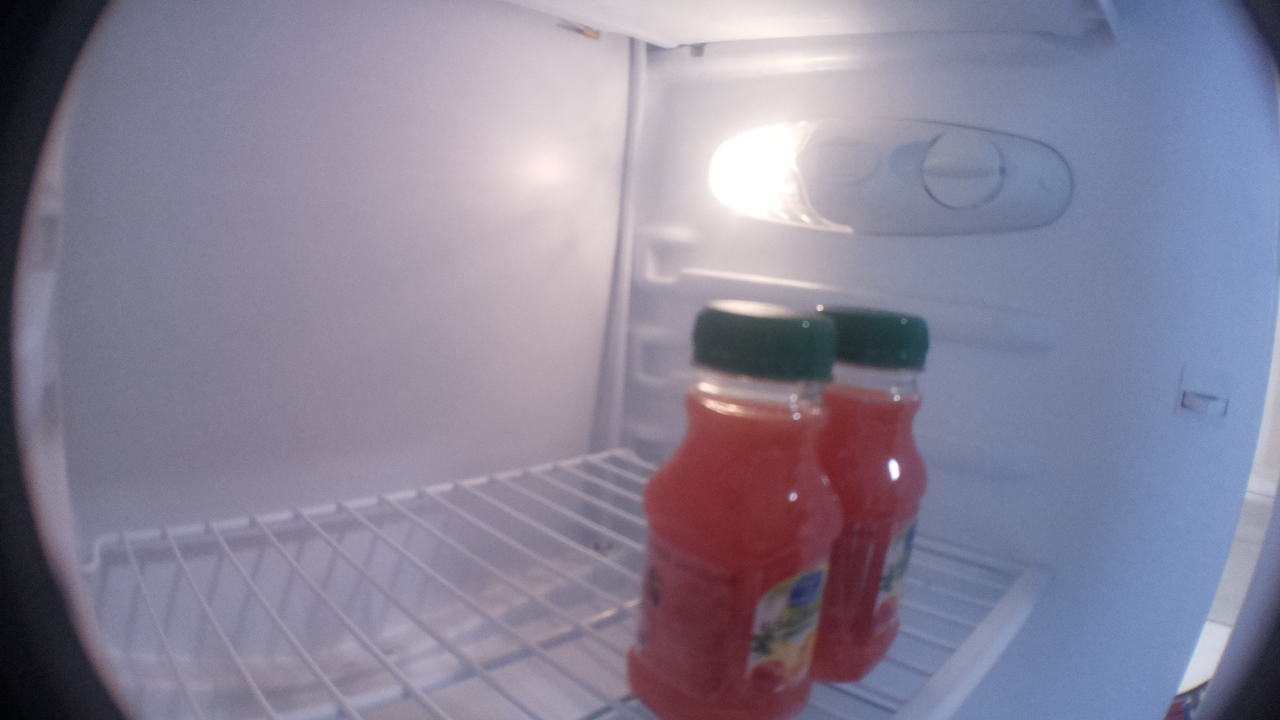juice: (627, 297, 848, 720), (816, 303, 937, 689)
